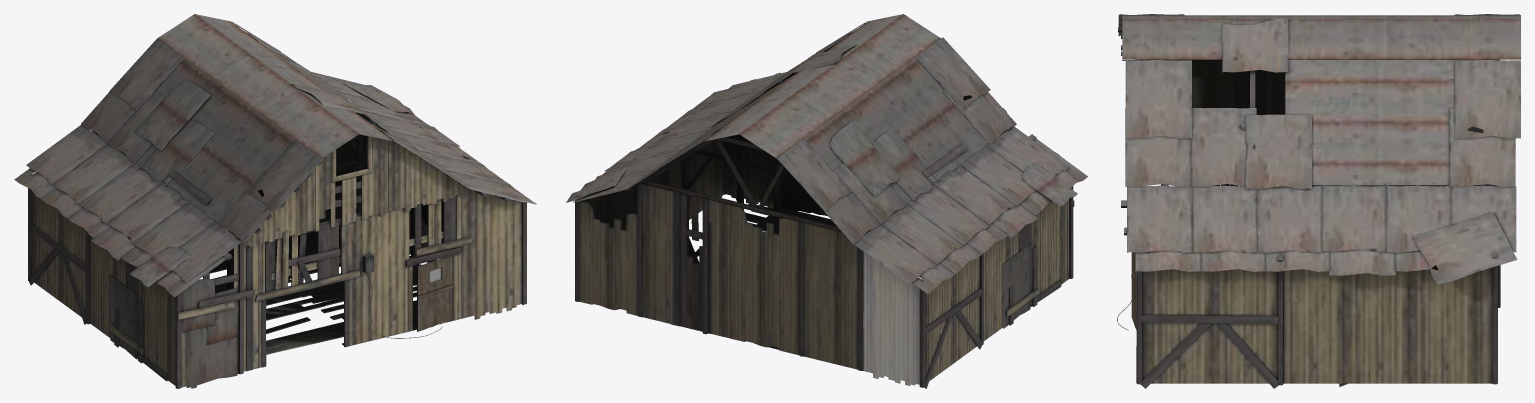
The model's file is old-barn.walls-v1.lod0.glb.
3 renders of one model, left to right at view 1: azimuth 30°, elevation 25°; view 2: azimuth 150°, elevation 25°; view 3: azimuth 270°, elevation 25°, orthographic. The views are drawn at different scales.
Visible parts, largest first — view 1: Object002_Object002_mtl_0; view 2: Object002_Object002_mtl_0; view 3: Object002_Object002_mtl_0.
Part boxes in pixels (bbox=[...]): Object002_Object002_mtl_0: bbox=[14, 14, 536, 388]; Object002_Object002_mtl_0: bbox=[566, 14, 1087, 388]; Object002_Object002_mtl_0: bbox=[1117, 14, 1520, 388].
Bounding box in the file's own units: 16 × 8.86 × 12.06.
Materials: 1 (1 with a texture image).
